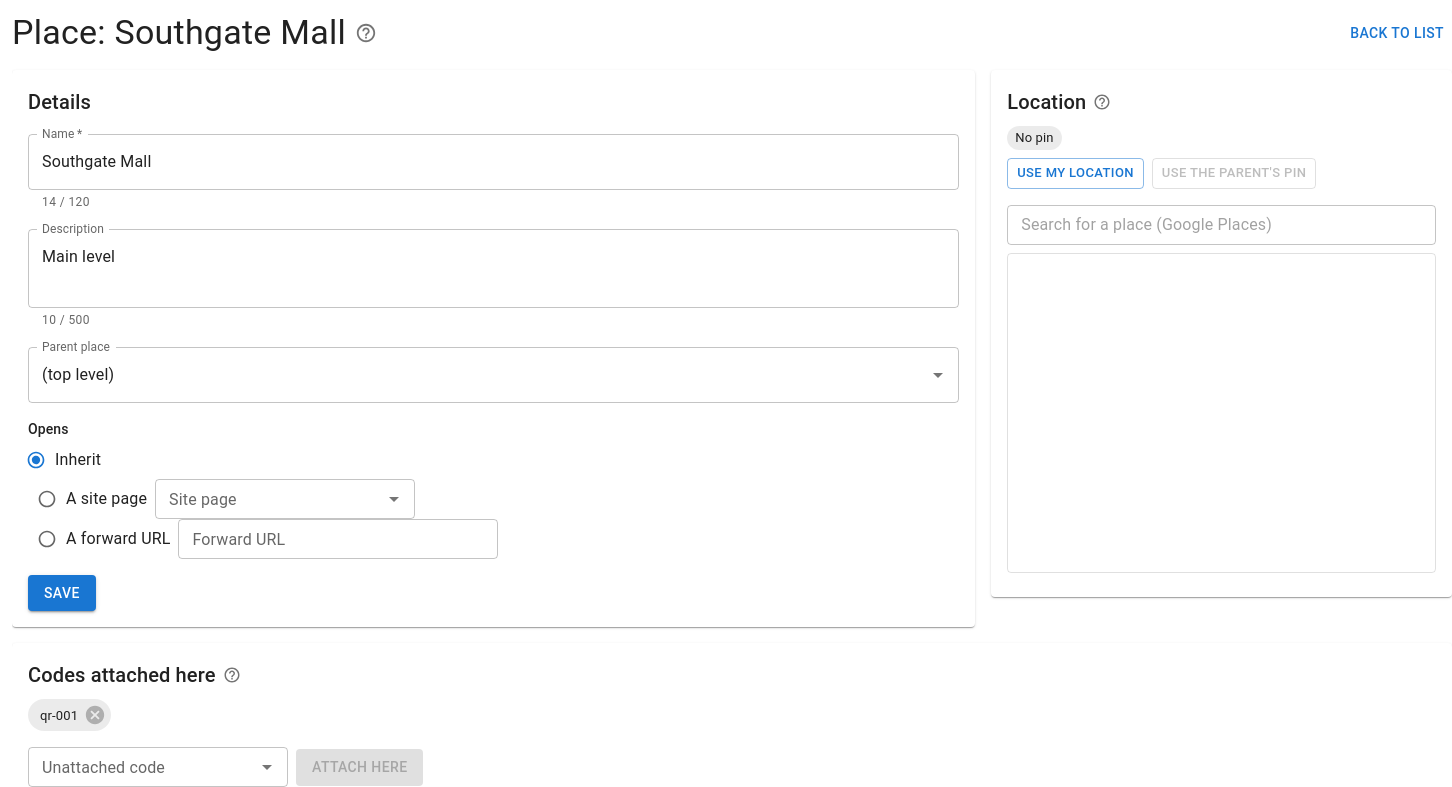
Test case: PlaceDetail (admin.md 6.24) › Use my location refuses a fix worse than 500 m
Expected: the heading "Place: Southgate Mall" is shown, [12,12,346,54]
Click the button "Use my location". click: click(1076, 173)
box: [1007,158,1144,189]
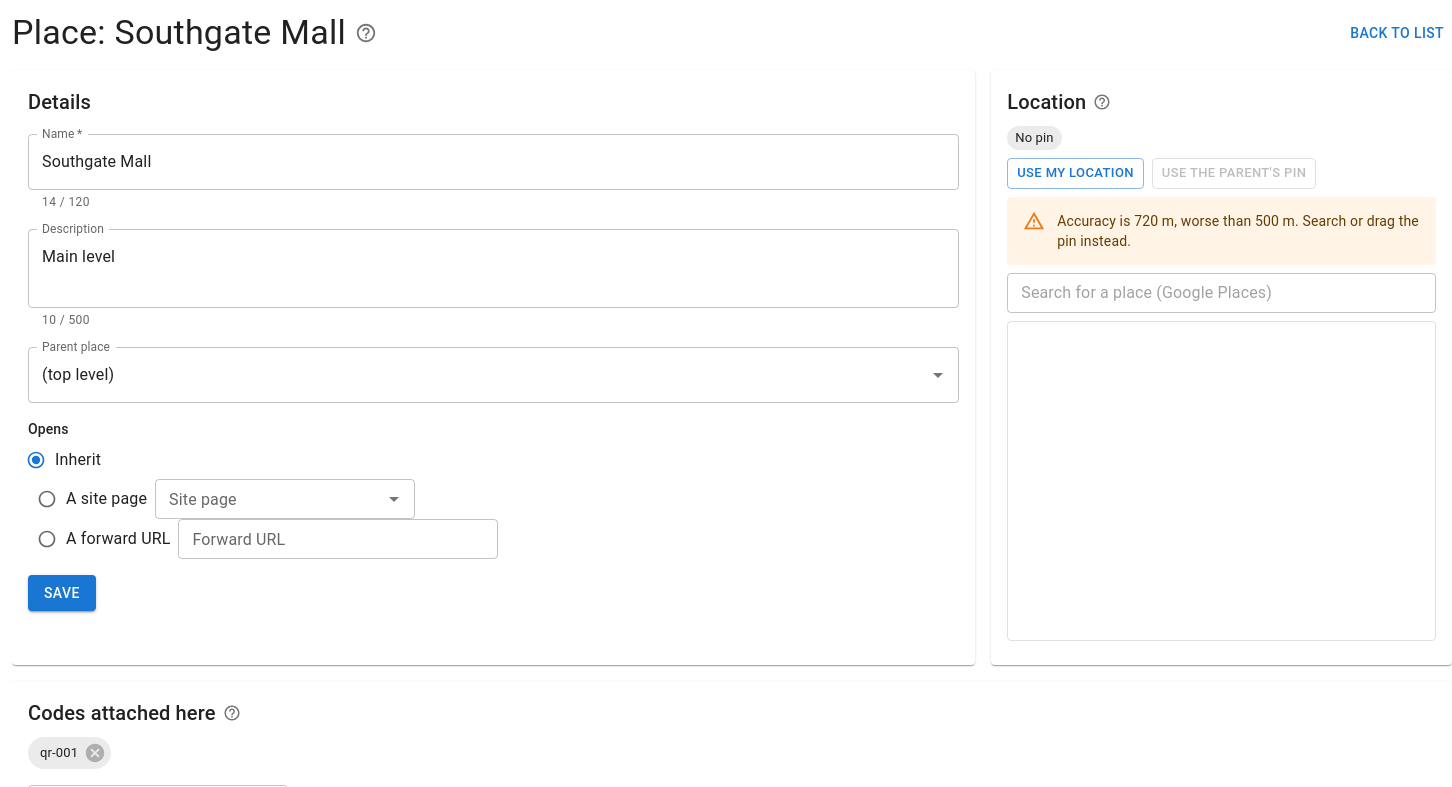
Expected: the text "worse than 500 m" is shown, [1057,213,1419,249]
